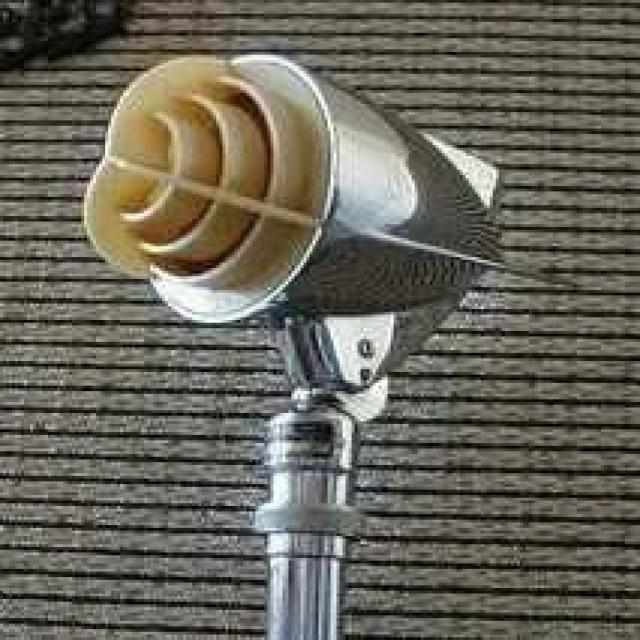microphone: (78, 45, 548, 637)
